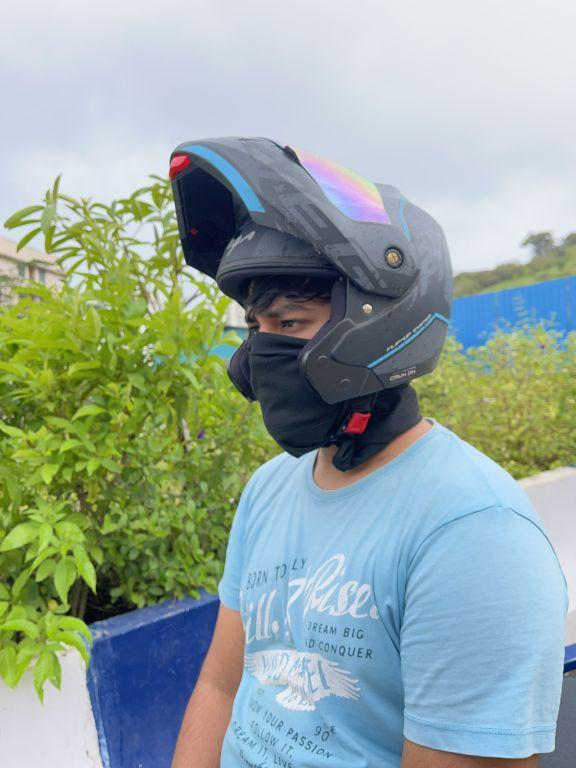helmet: (152, 122, 469, 490)
